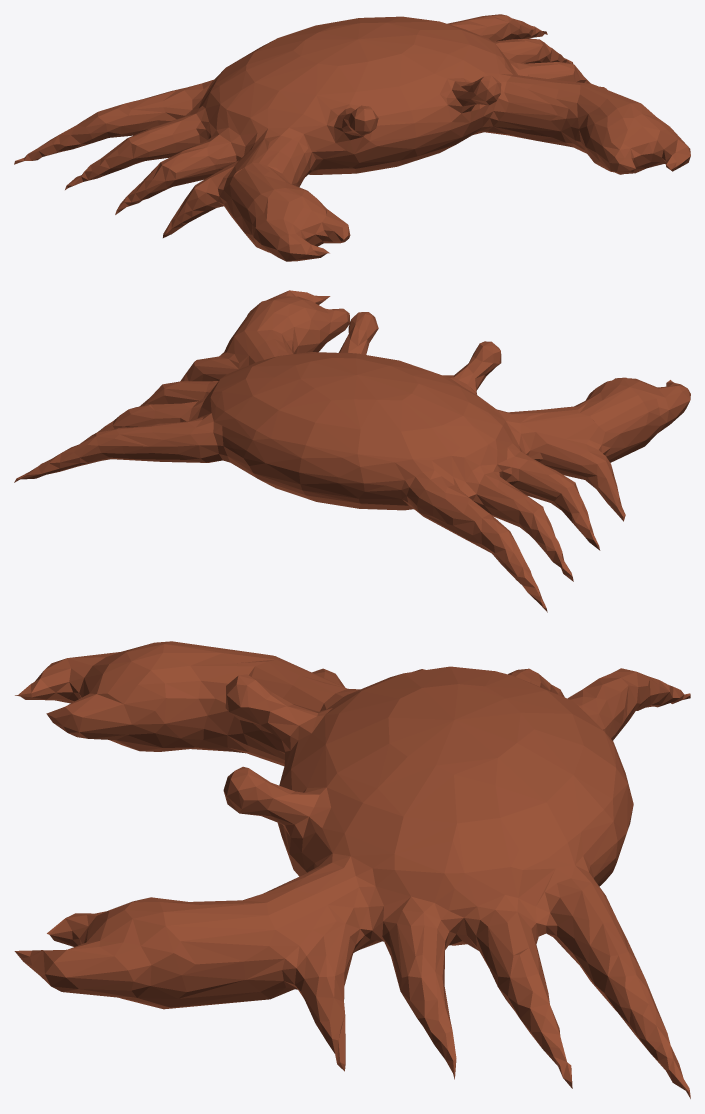
Rendered from NEW_RECOVERY_039_LOD0.glb.
3 views of the same model, one above another, from view 1: azimuth 30°, elevation 25°; view 2: azimuth 150°, elevation 25°; view 3: azimuth 270°, elevation 25° (orthographic). The views are drawn at different scales.
Parts seen in each view (by area): view 1: Crab_Solid; view 2: Crab_Solid; view 3: Crab_Solid.
Boxes of the visible parts, x1,y1,x2,y2 form: Crab_Solid: [14, 14, 690, 261]; Crab_Solid: [14, 290, 690, 612]; Crab_Solid: [14, 641, 690, 1098].
Bounding box in the file's own units: 4.13 × 0.8649 × 2.95.
